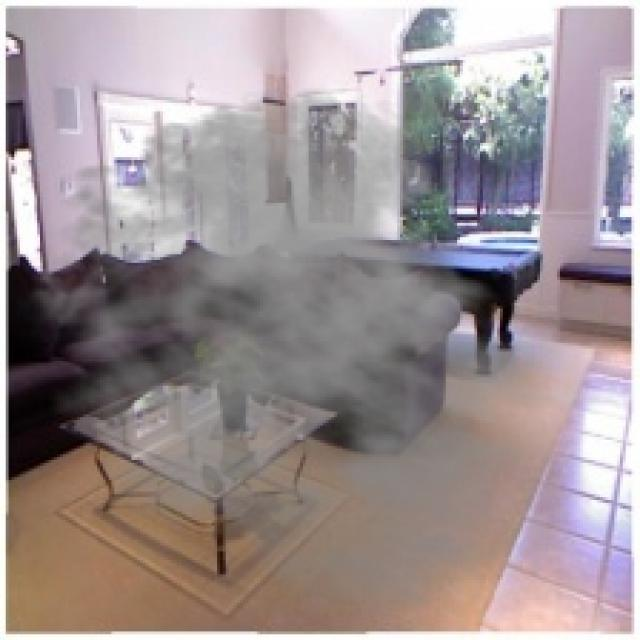smoke: (9, 80, 574, 617)
